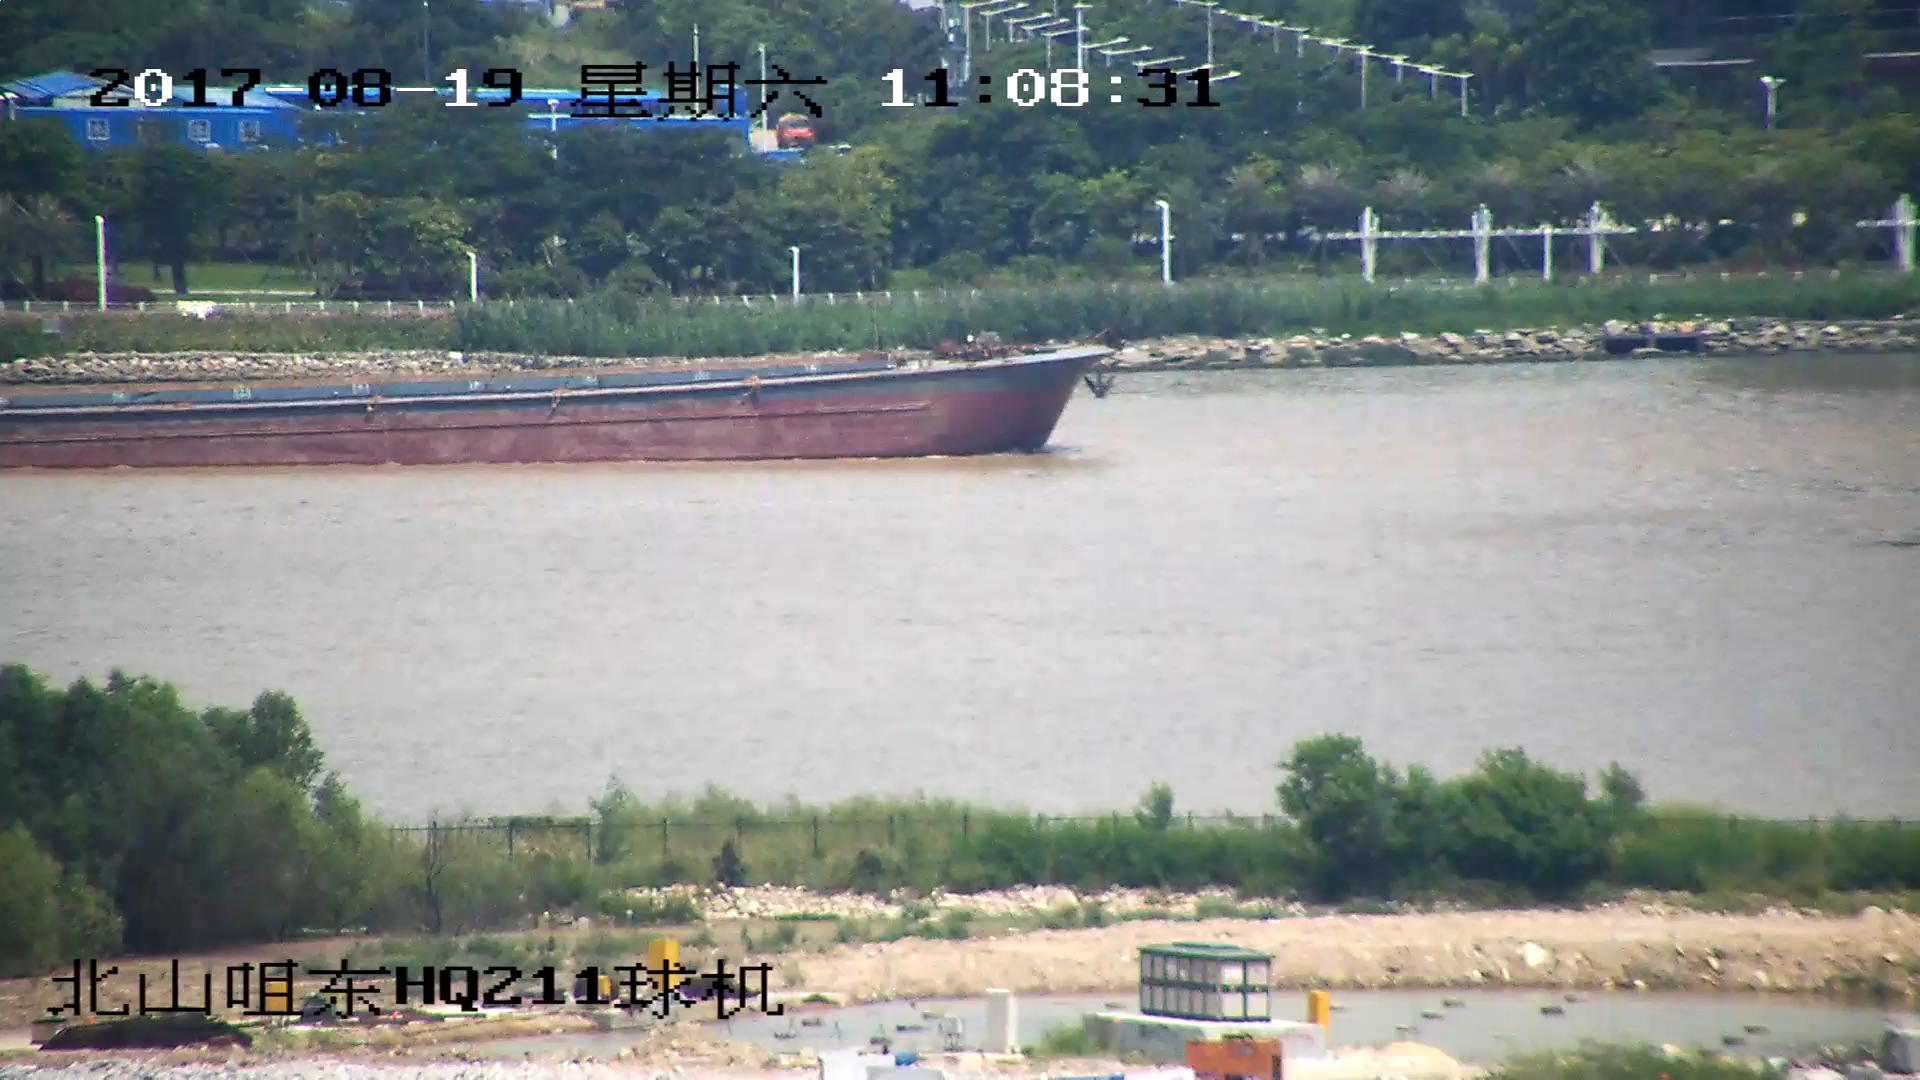bulk cargo carrier: (1, 322, 1116, 467)
